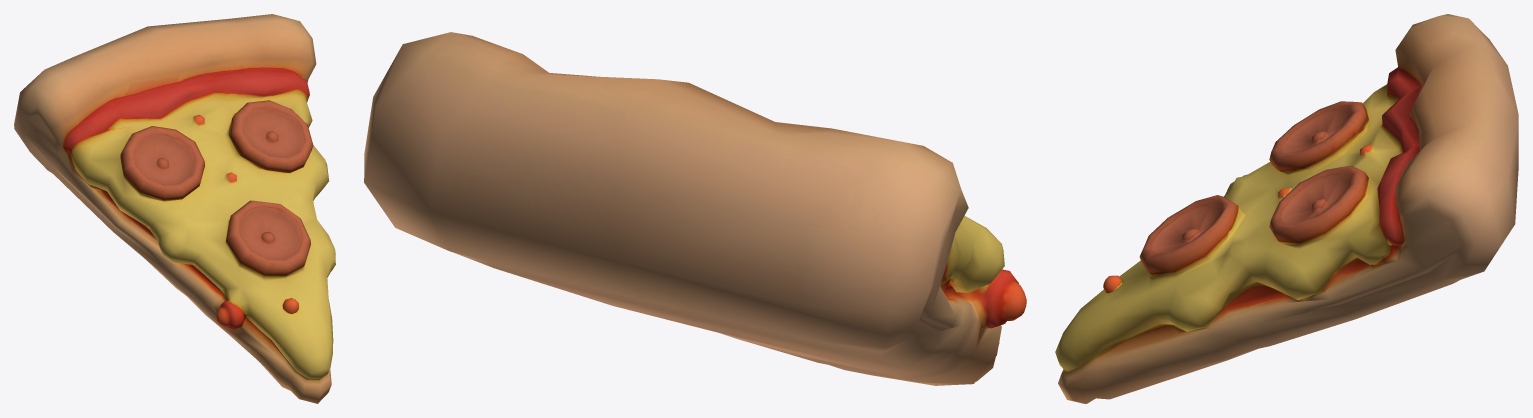
Rendered from pizza_slice-2026-03-27-135756.glb.
3 views of the same model, side by side, from view 1: azimuth 30°, elevation 25°; view 2: azimuth 150°, elevation 25°; view 3: azimuth 270°, elevation 25° (orthographic). The views are drawn at different scales.
Visible parts, largest first — view 1: tripo_node_2085e057-266a-4f9c-b4b8-3a359e776413; view 2: tripo_node_2085e057-266a-4f9c-b4b8-3a359e776413; view 3: tripo_node_2085e057-266a-4f9c-b4b8-3a359e776413.
Part boxes in pixels (<box>): tripo_node_2085e057-266a-4f9c-b4b8-3a359e776413: <box>14,14,335,403</box>; tripo_node_2085e057-266a-4f9c-b4b8-3a359e776413: <box>364,32,1026,385</box>; tripo_node_2085e057-266a-4f9c-b4b8-3a359e776413: <box>1055,14,1518,403</box>.
Bounding box in the file's own units: 0.8945 × 0.7888 × 1.
Materials: 1 (1 with a texture image).
